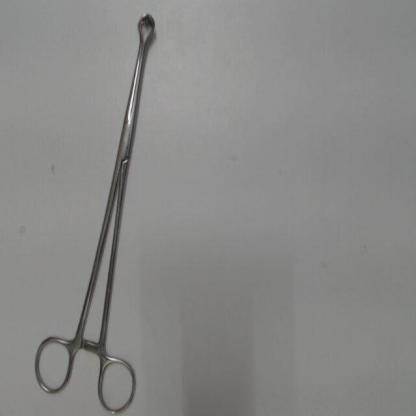8 Babcock Tissue Forceps: (30, 6, 161, 413)
